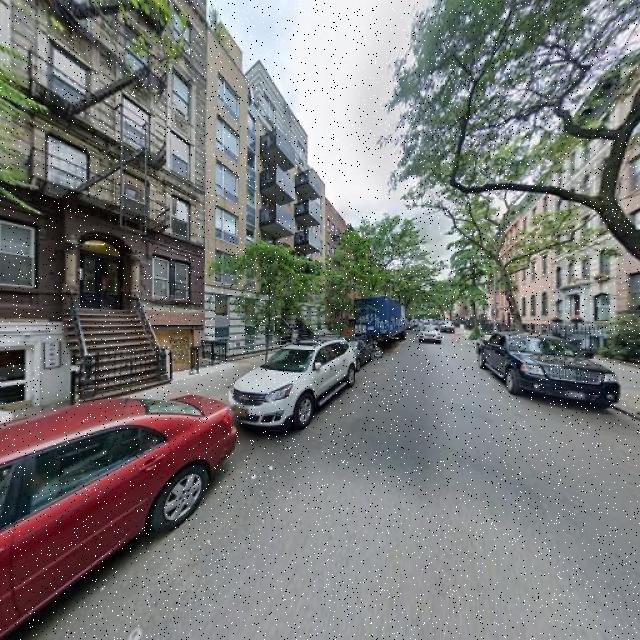Building: (1, 1, 200, 399), (203, 1, 324, 360)
